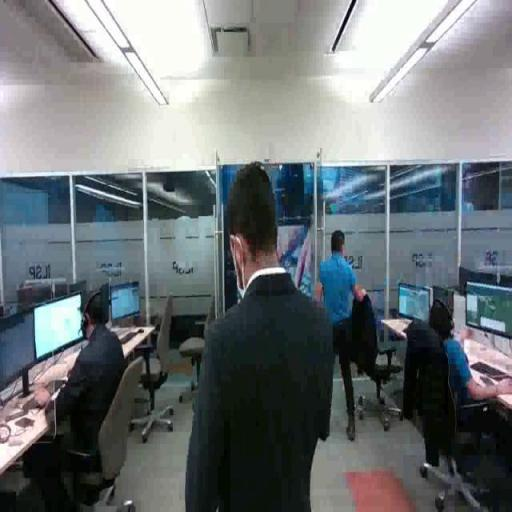person: (190, 162, 333, 512), (22, 279, 154, 497), (415, 297, 512, 496), (317, 231, 367, 441)
